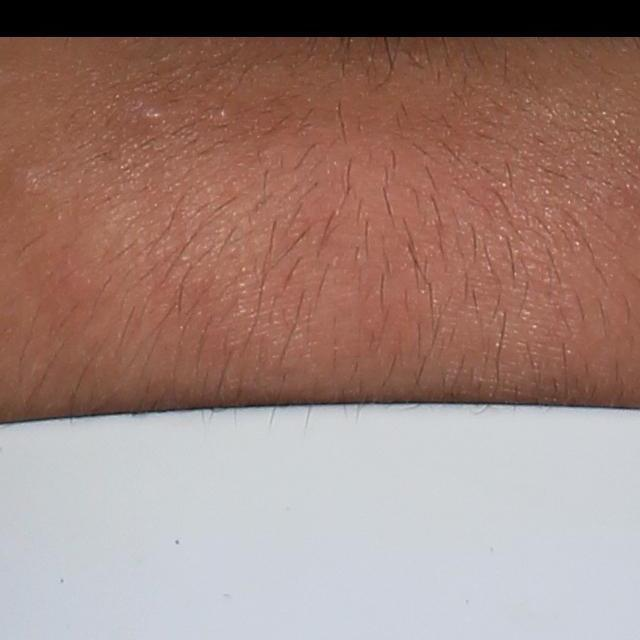comedo: (137, 105, 168, 125)
